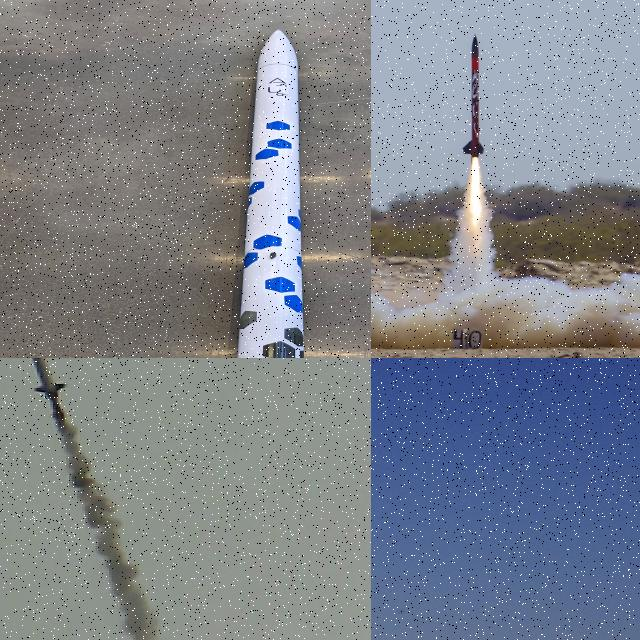Rocket: (236, 28, 306, 358), (463, 33, 484, 160), (15, 358, 69, 397)
